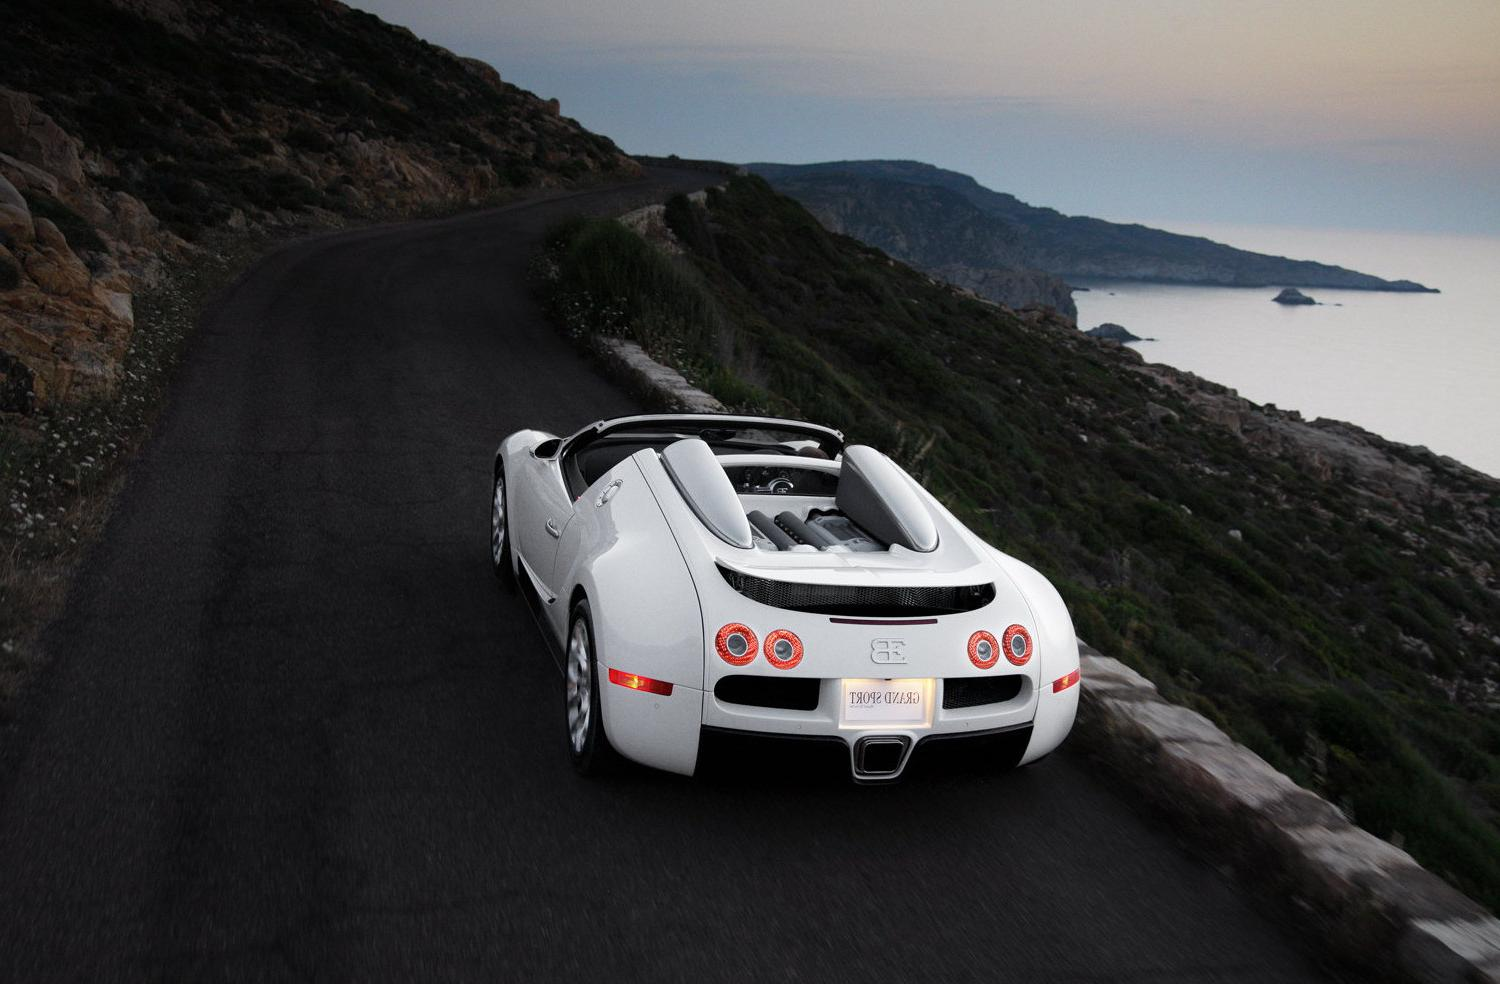Car: (430, 368, 1116, 831)
